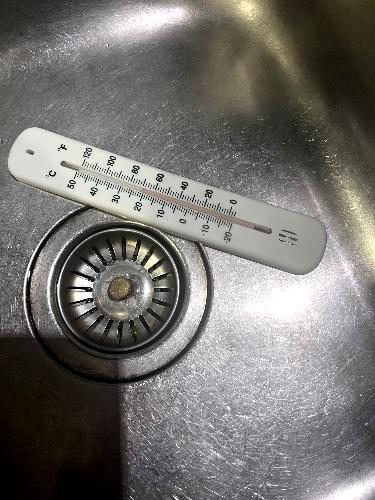thermo: (2, 115, 329, 278)
